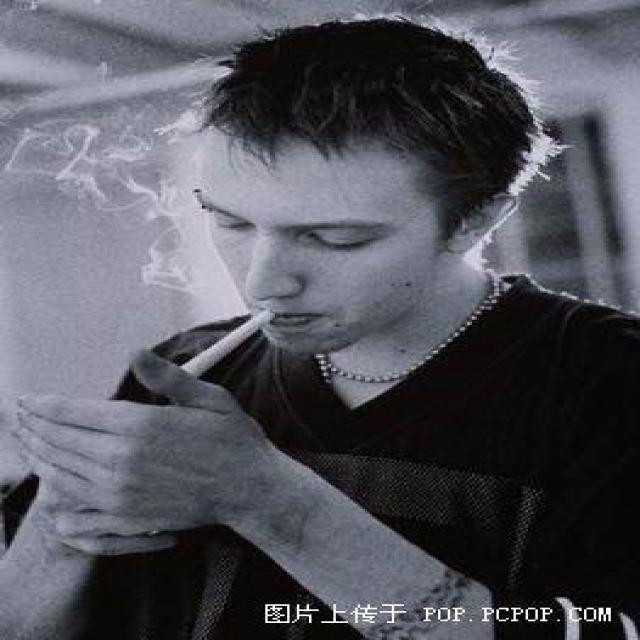cigarette: (185, 312, 272, 372)
